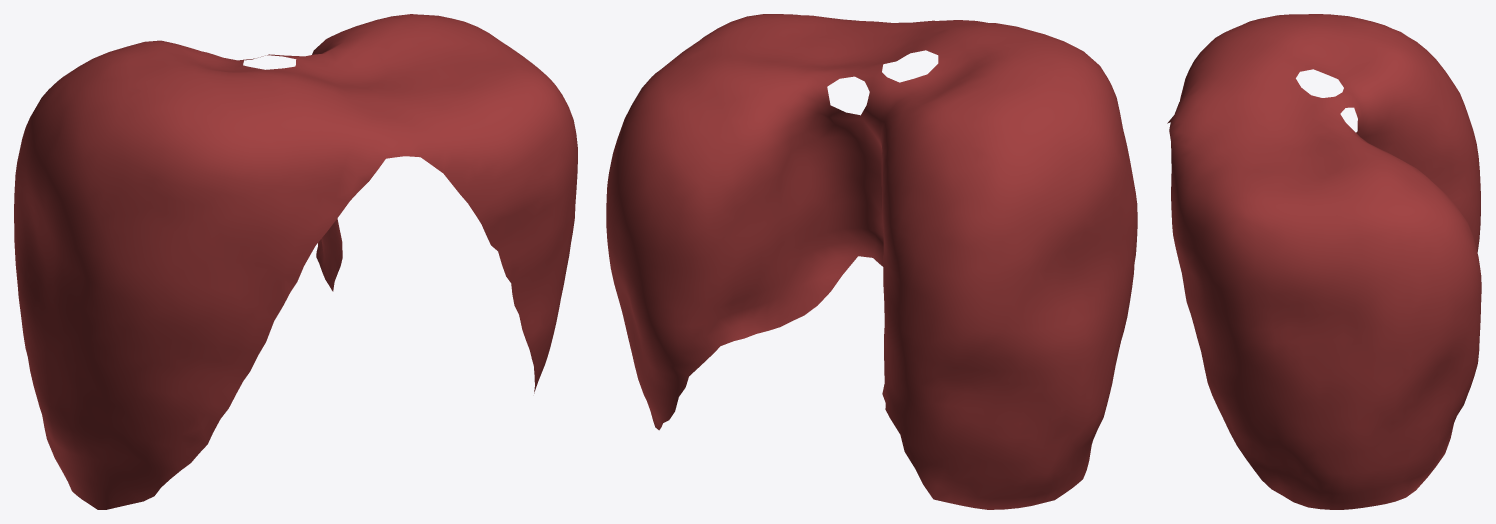
Rendered from diaphragmatic-fascia.glb.
3 views of the same model, side by side, from view 1: azimuth 30°, elevation 25°; view 2: azimuth 150°, elevation 25°; view 3: azimuth 270°, elevation 25° (orthographic). The views are drawn at different scales.
Visible parts, largest first — view 1: Diaphragmatic fascia; view 2: Diaphragmatic fascia; view 3: Diaphragmatic fascia.
Part boxes in pixels (<box>): Diaphragmatic fascia: <box>14,14,577,509</box>; Diaphragmatic fascia: <box>606,14,1137,509</box>; Diaphragmatic fascia: <box>1167,14,1481,509</box>.
Bounding box in the file's own units: 0.2357 × 0.1939 × 0.1594.
